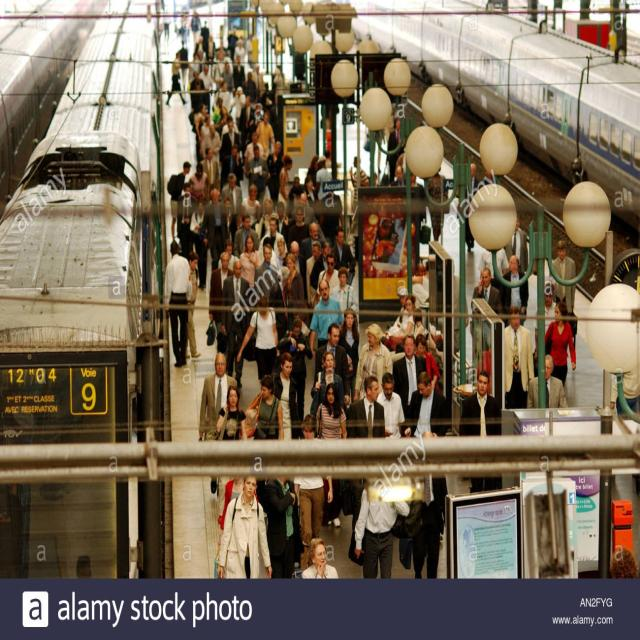body: (341, 374, 386, 540), (293, 412, 335, 570), (408, 429, 450, 579), (198, 350, 240, 496), (215, 474, 273, 579), (354, 483, 411, 578), (458, 370, 502, 493), (314, 382, 348, 528), (216, 475, 263, 579), (215, 384, 248, 525), (263, 474, 306, 580), (220, 259, 254, 389), (276, 317, 314, 425), (161, 239, 192, 370), (234, 294, 281, 380), (534, 300, 577, 389), (220, 186, 290, 238), (352, 322, 394, 404), (391, 332, 428, 419), (504, 304, 534, 410), (205, 251, 235, 355), (315, 322, 351, 407), (308, 279, 344, 364), (403, 371, 449, 437), (464, 307, 495, 397), (362, 88, 393, 178), (269, 352, 298, 441), (309, 349, 346, 418), (245, 374, 284, 439), (526, 353, 568, 409), (202, 188, 230, 272), (166, 161, 194, 243), (498, 254, 529, 328), (268, 266, 290, 368), (337, 307, 360, 404), (188, 199, 211, 291), (376, 371, 406, 440), (533, 282, 558, 363), (184, 250, 202, 360), (425, 167, 451, 243), (244, 145, 269, 222), (220, 173, 243, 255), (551, 239, 576, 314), (300, 537, 340, 580), (253, 243, 279, 309), (414, 333, 441, 395), (465, 162, 483, 253), (480, 248, 508, 306), (176, 181, 196, 262), (264, 140, 286, 212), (470, 266, 502, 315), (308, 242, 339, 292), (318, 98, 340, 167), (331, 266, 359, 320), (505, 213, 529, 274), (284, 253, 305, 322), (305, 240, 322, 324), (257, 216, 288, 261), (385, 117, 405, 186), (161, 3, 191, 49), (330, 225, 357, 274), (316, 252, 341, 304), (165, 50, 188, 106), (349, 155, 370, 216), (236, 182, 262, 231), (237, 95, 257, 158), (385, 285, 409, 337), (232, 213, 260, 256), (219, 144, 244, 192), (239, 234, 261, 288), (200, 146, 220, 204), (218, 120, 240, 167), (288, 206, 310, 253), (277, 153, 293, 217), (299, 221, 325, 260), (210, 96, 234, 136), (256, 111, 276, 157), (314, 154, 333, 202), (213, 34, 232, 82), (396, 293, 416, 337), (188, 162, 210, 202), (411, 262, 429, 308), (202, 123, 222, 164), (232, 86, 247, 140), (194, 103, 207, 165), (198, 64, 214, 114), (271, 63, 287, 111), (218, 238, 240, 271), (190, 70, 206, 113), (177, 38, 189, 93), (307, 154, 321, 200), (411, 260, 429, 294), (232, 54, 246, 92), (199, 19, 211, 63), (190, 8, 202, 49), (251, 63, 265, 98), (411, 308, 426, 340), (214, 80, 230, 109), (205, 34, 217, 70), (227, 29, 239, 63), (233, 38, 245, 66), (299, 192, 308, 207)
